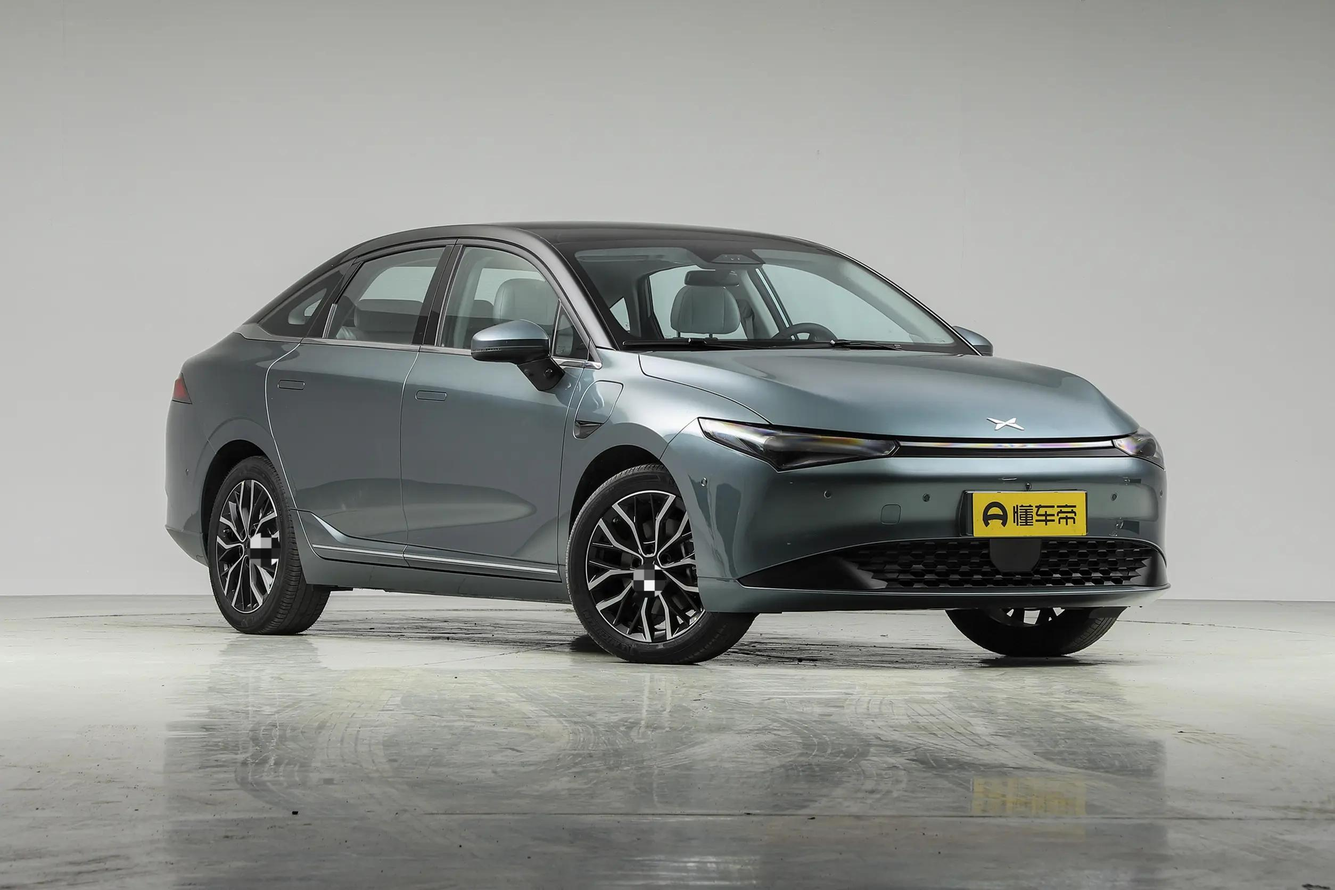XPeng Motors: (986, 417, 1024, 430)
